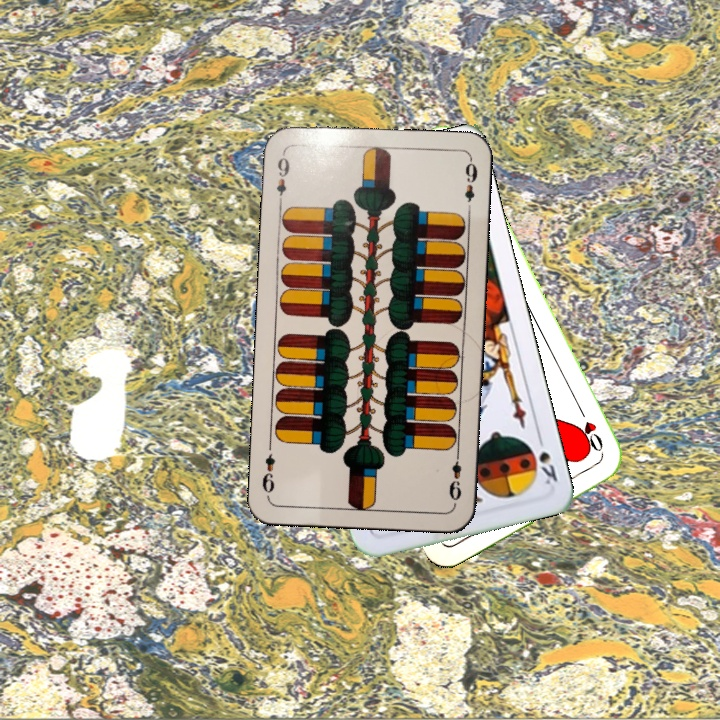E9: (444, 447, 465, 506), (273, 149, 293, 198)
HO: (573, 405, 607, 462)
SK: (533, 430, 560, 487)
